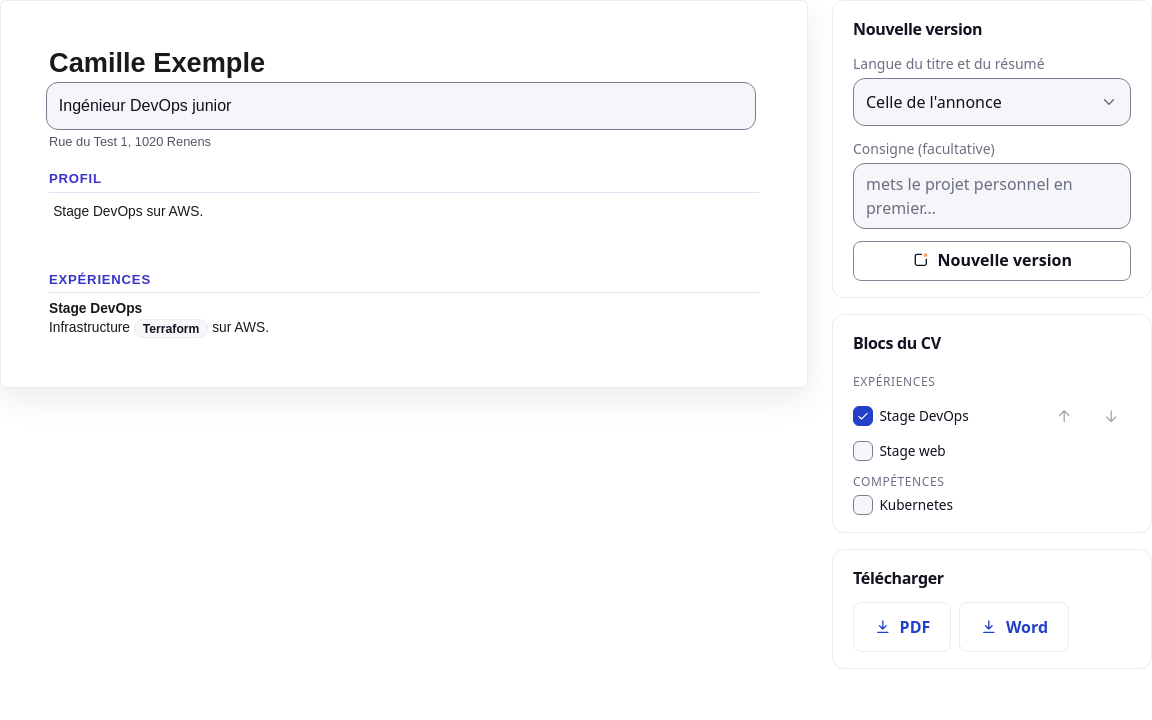
Test: CvPanel › refuse de décocher le dernier bloc
Click the checkbox with test id "block-toggle" showing "Stage DevOps" at (863, 416), box [853, 406, 873, 426]
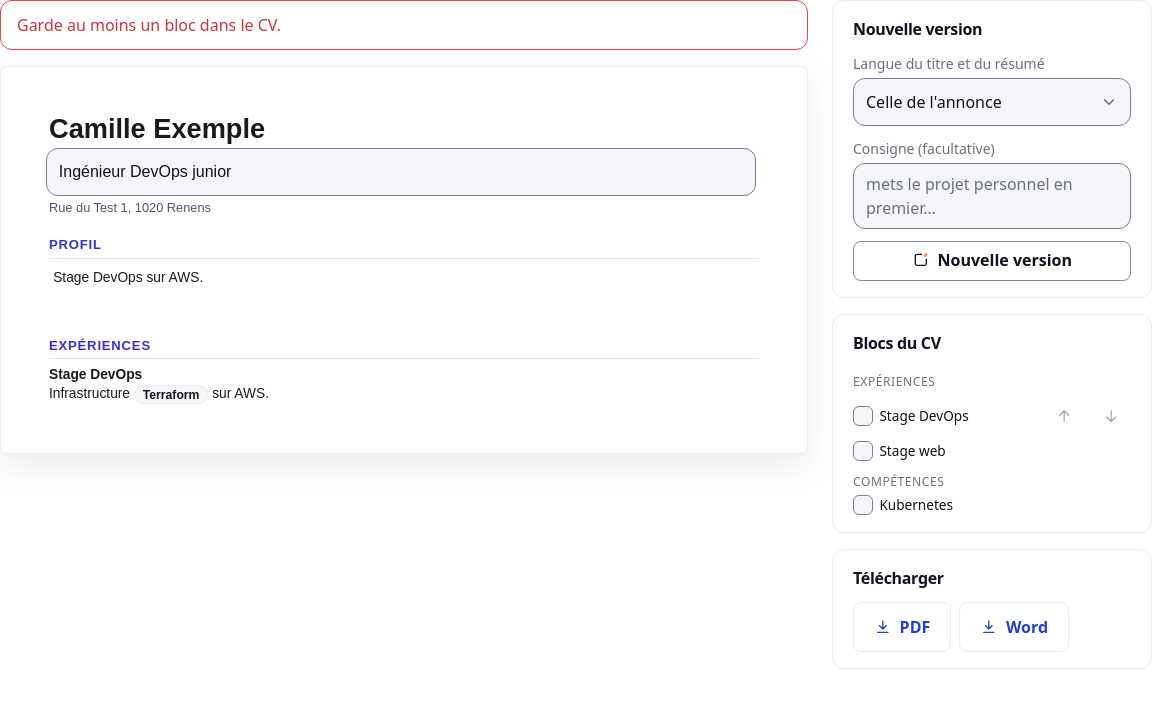
Now the message "Garde au moins un bloc dans le CV." is shown, box [0, 0, 808, 50]
